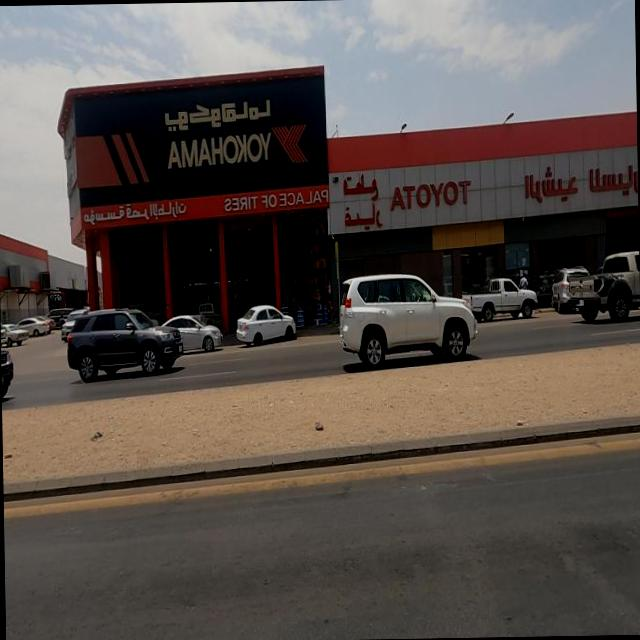debris: (302, 384, 335, 456), (77, 408, 116, 464)
